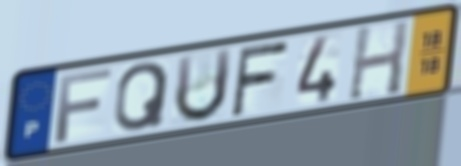4: (294, 32, 341, 106)
F: (228, 38, 292, 120), (53, 65, 115, 146)
H: (345, 17, 413, 104)
Q: (111, 60, 172, 134)
U: (171, 45, 236, 127)
